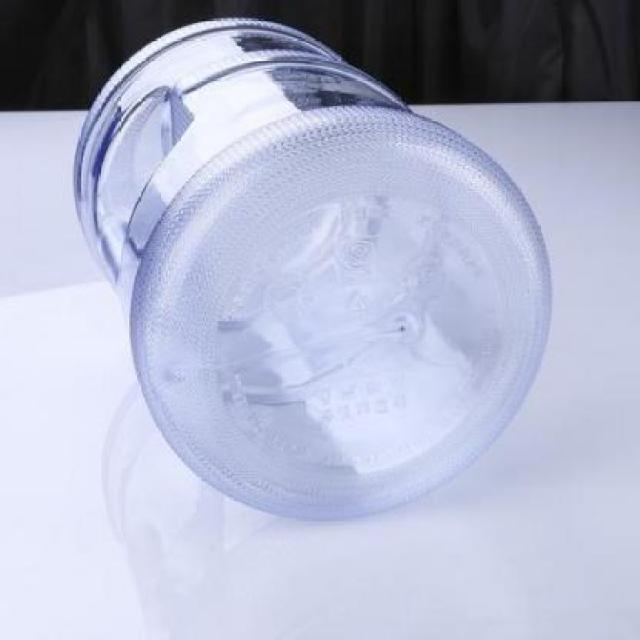coolerbottle: (68, 14, 558, 522)
